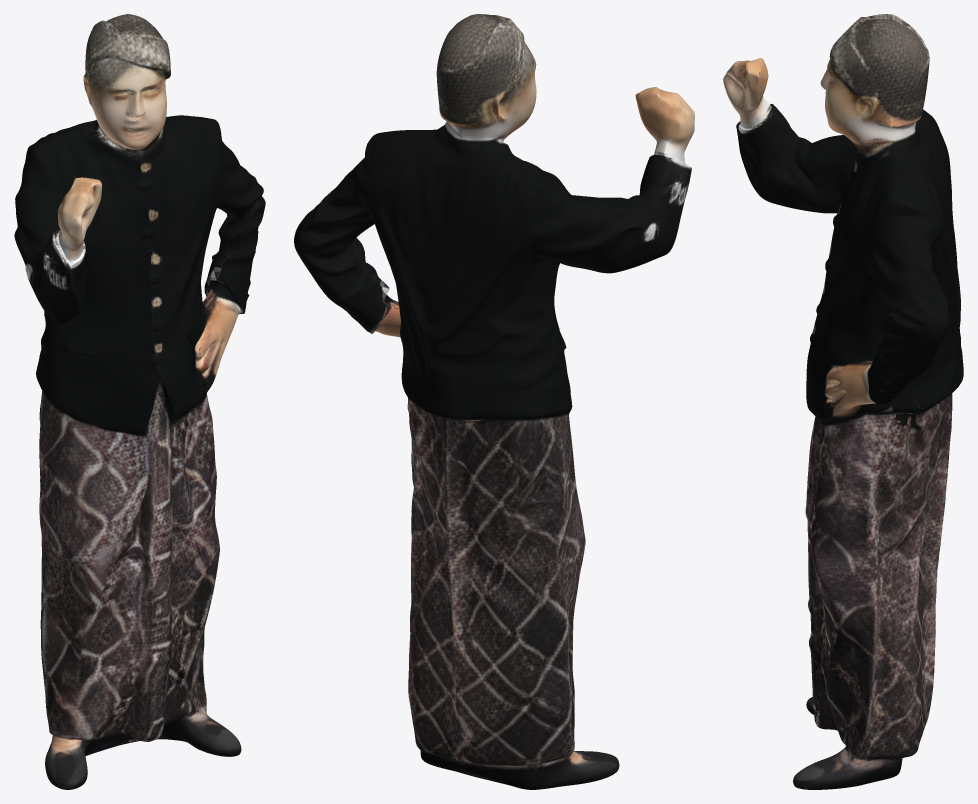
Rendered from base_basic_pbr.glb.
3 views of the same model, side by side, from view 1: azimuth 30°, elevation 25°; view 2: azimuth 150°, elevation 25°; view 3: azimuth 270°, elevation 25° (orthographic). The views are drawn at different scales.
Visible parts, largest first — view 1: model; view 2: model; view 3: model.
Part boxes in pixels (bbox=[...]): model: bbox=[14, 14, 265, 789]; model: bbox=[294, 14, 694, 789]; model: bbox=[723, 14, 963, 789].
Size of the model in its own units: 0.7958 by 1.9 by 0.566.
Materials: 1 (1 with a texture image).
